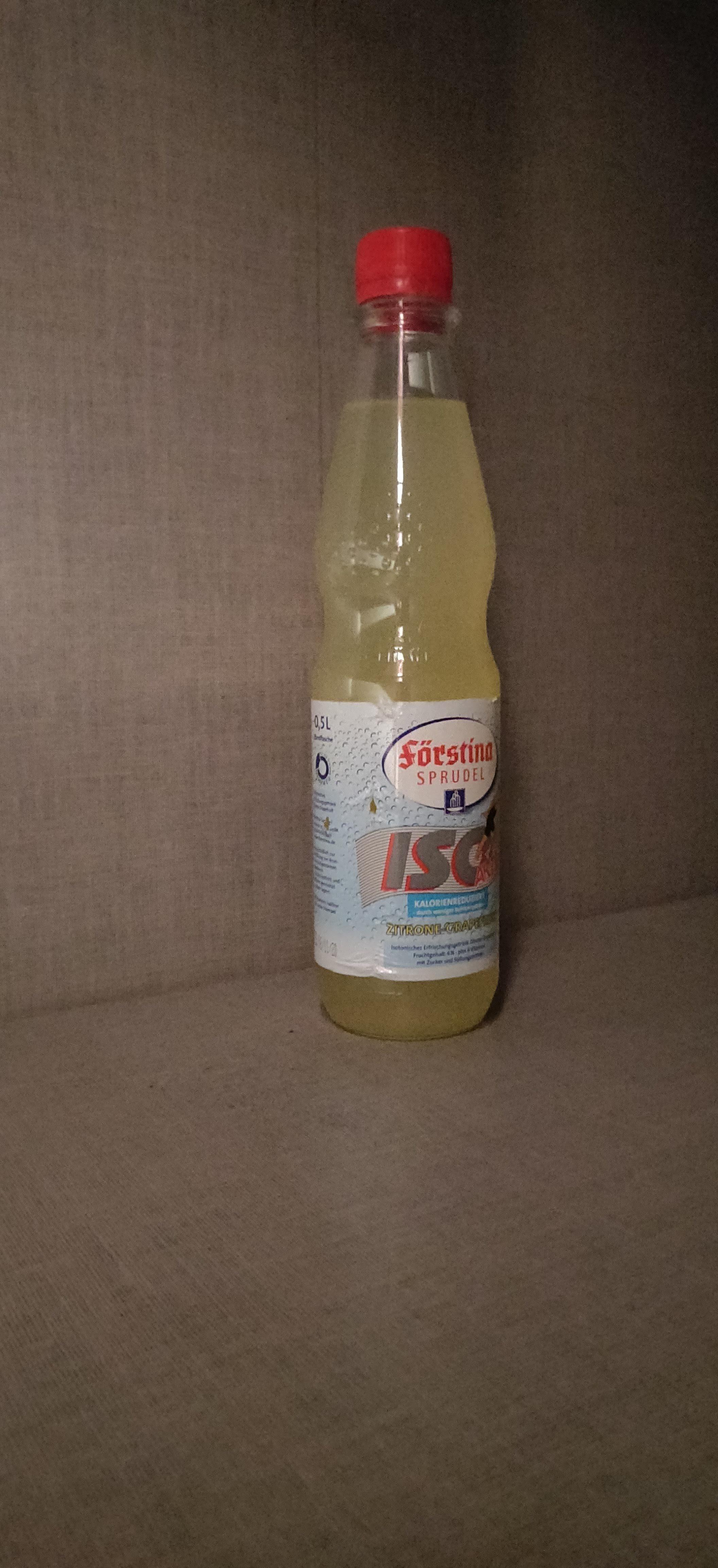bottle-plastic: (303, 222, 509, 1044)
